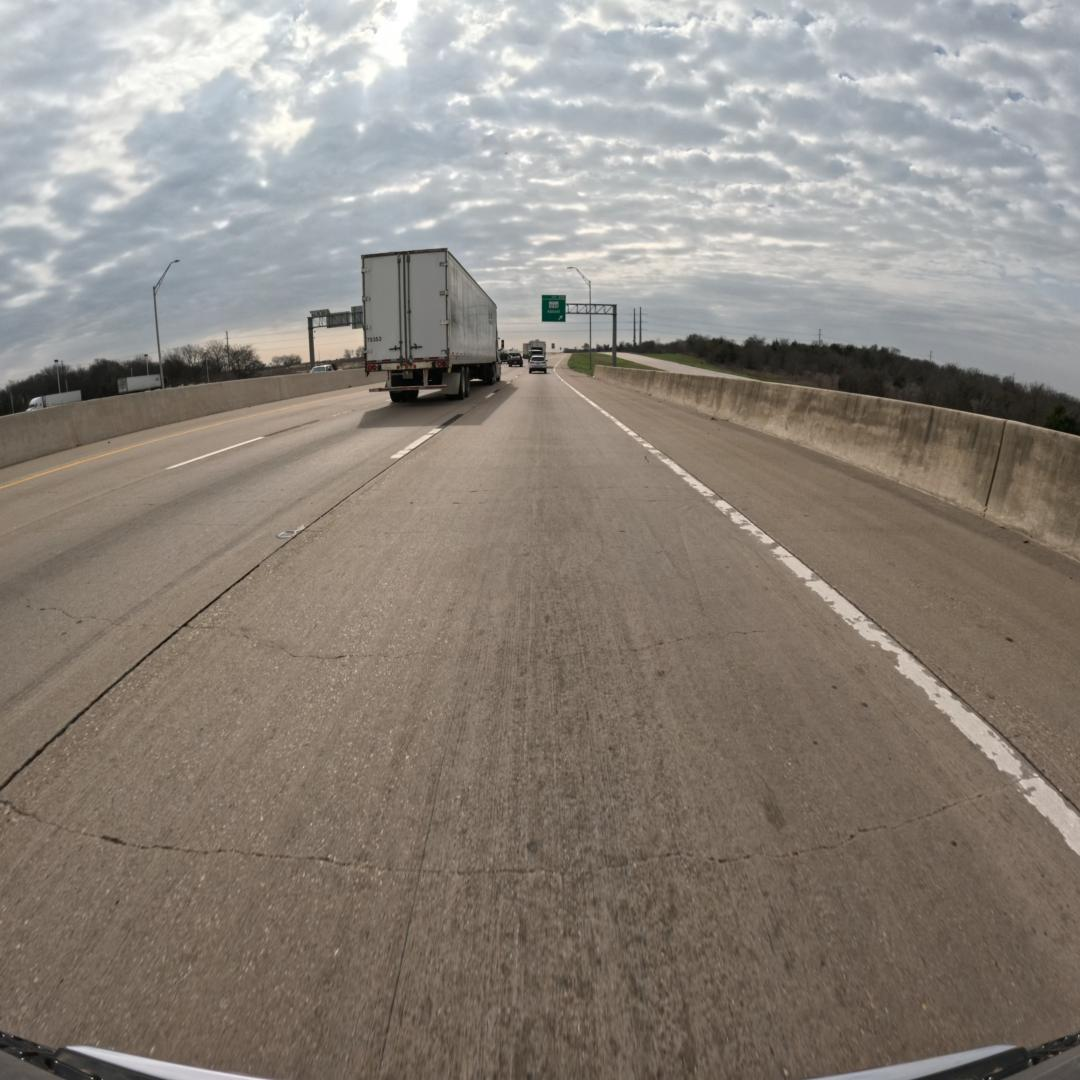lane0: (0, 375, 1080, 1076)
lane1: (0, 387, 490, 788)
